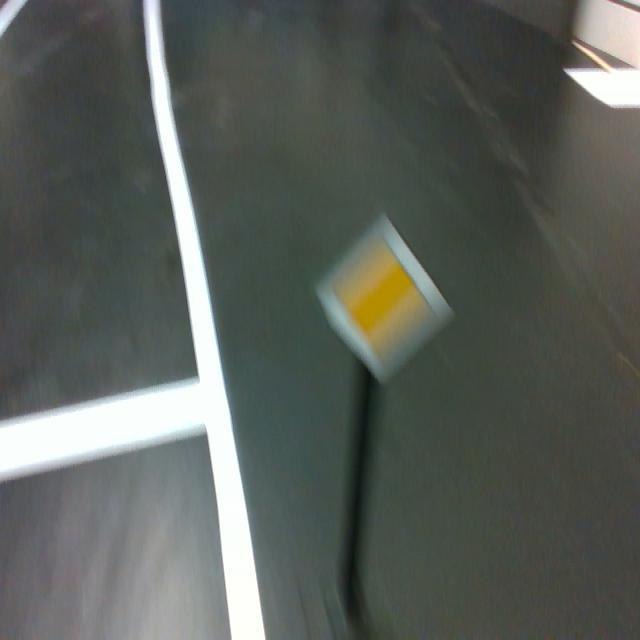priority-sign: (314, 209, 455, 388)
